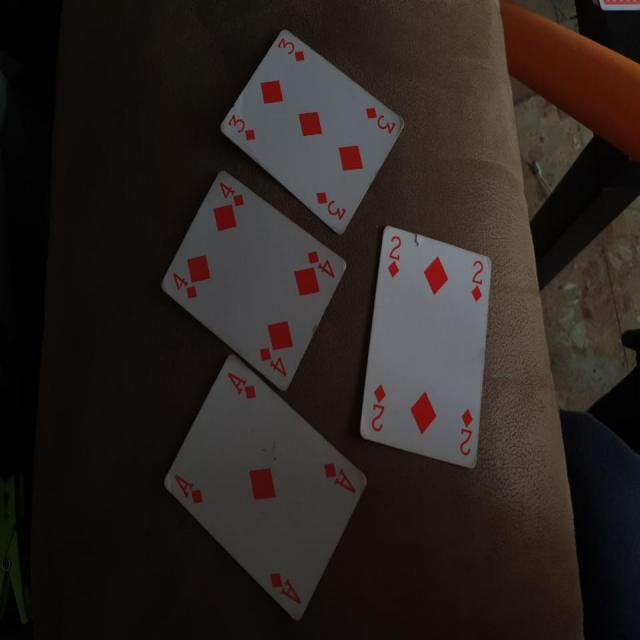2 of diamonds: (356, 217, 494, 466)
3 of diamonds: (218, 28, 408, 238)
4 of diamonds: (161, 170, 348, 394)
ace of diamonds: (158, 350, 368, 625)
